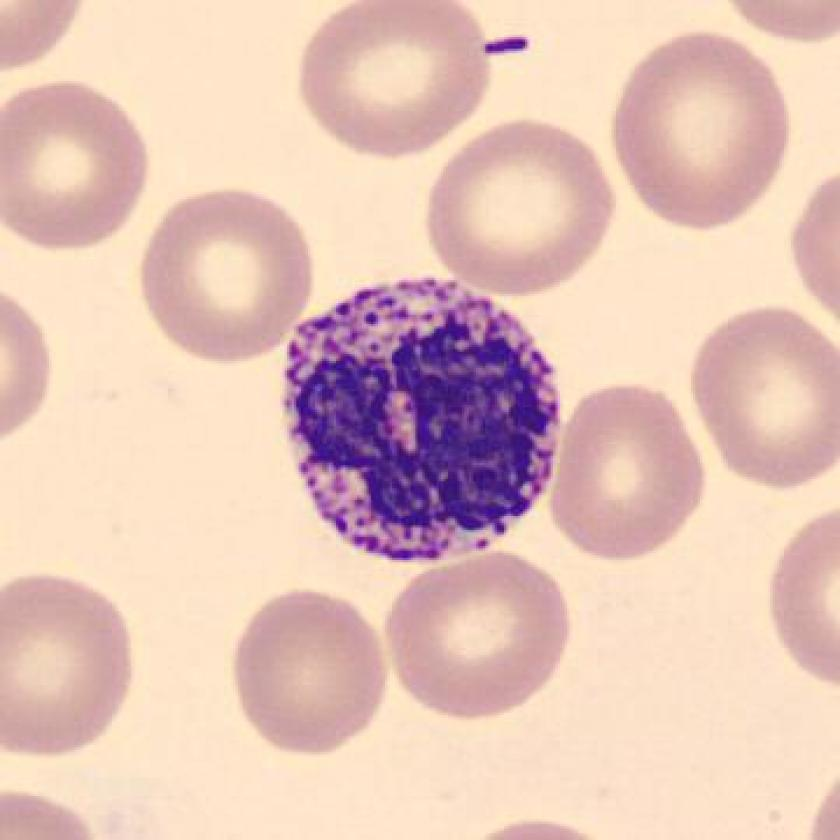basophil: (272, 274, 561, 561)
